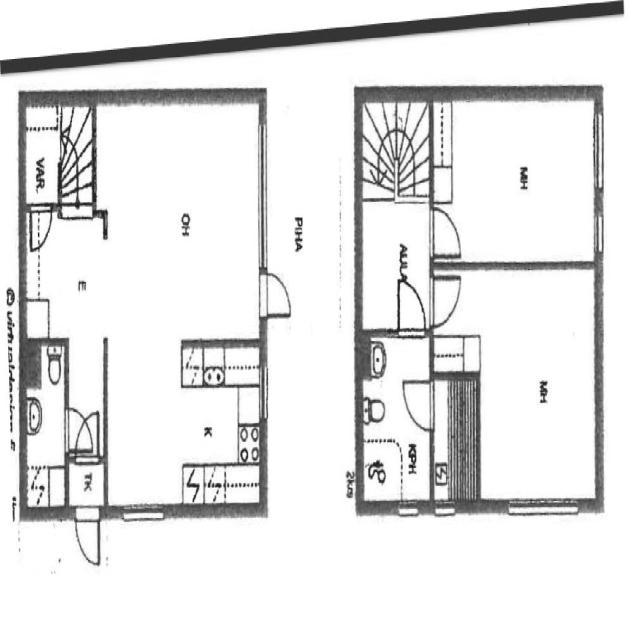door: (23, 203, 106, 338), (425, 196, 467, 262), (70, 501, 104, 574), (427, 265, 467, 327), (400, 373, 438, 436), (392, 275, 429, 337), (59, 403, 99, 459), (254, 265, 295, 319), (25, 198, 57, 256)
window: (502, 488, 584, 530), (253, 111, 272, 271), (588, 101, 610, 200), (116, 496, 173, 534), (256, 355, 272, 426), (392, 497, 423, 523)
zone: (433, 261, 601, 504), (98, 94, 262, 341), (433, 90, 598, 269), (107, 340, 266, 509), (359, 324, 435, 508), (23, 204, 106, 342), (358, 190, 433, 334), (22, 336, 65, 514), (431, 372, 480, 506), (24, 96, 60, 205)
